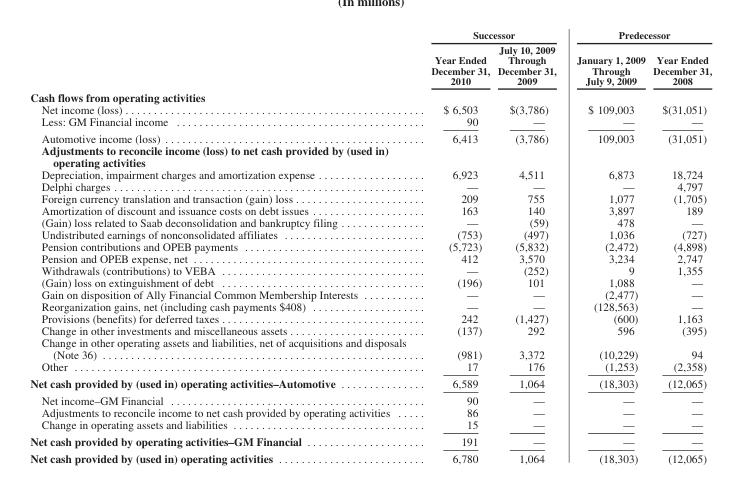table: (29, 28, 711, 464)
table column: (29, 28, 418, 464), (565, 28, 648, 464), (418, 28, 493, 464), (493, 28, 565, 464), (648, 28, 711, 464)
table column header: (29, 28, 711, 87)
table projected row header: (29, 143, 711, 167), (29, 87, 711, 102)
table row: (29, 42, 711, 87), (29, 143, 711, 167), (29, 335, 711, 359), (29, 374, 711, 391), (29, 432, 711, 449), (29, 87, 711, 102), (29, 114, 711, 129), (29, 359, 711, 374), (29, 417, 711, 432), (29, 449, 711, 464), (29, 28, 711, 42), (29, 129, 711, 143), (29, 391, 711, 405), (29, 102, 711, 114), (29, 167, 711, 179), (29, 179, 711, 191), (29, 191, 711, 203), (29, 203, 711, 215), (29, 215, 711, 227), (29, 227, 711, 239), (29, 239, 711, 251), (29, 251, 711, 263), (29, 263, 711, 275), (29, 275, 711, 287), (29, 287, 711, 299), (29, 299, 711, 311), (29, 311, 711, 323), (29, 323, 711, 335), (29, 405, 711, 417)
table spanning cell: (418, 28, 565, 42), (565, 28, 711, 42)
